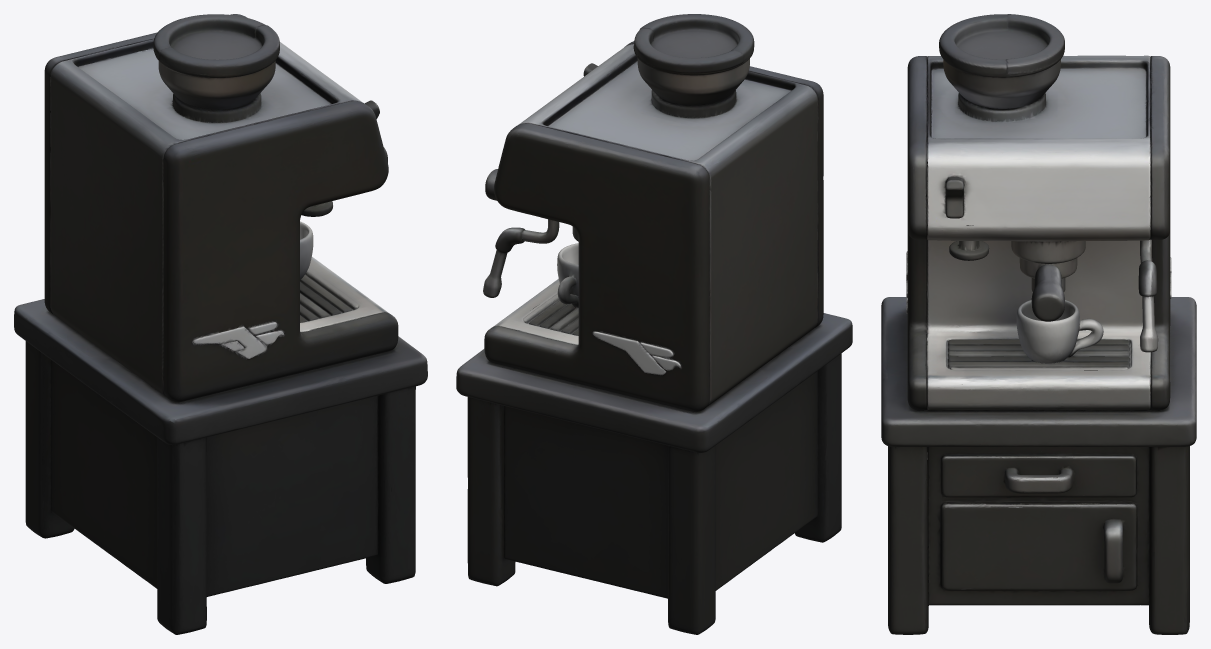
File: coffee-machine-t1.glb
3 views of the same model, side by side, from view 1: azimuth 30°, elevation 25°; view 2: azimuth 150°, elevation 25°; view 3: azimuth 270°, elevation 25° (orthographic). The views are drawn at different scales.
Visible parts, largest first — view 1: tripo_node_49b20901-98d6-4b70-a1c8-b859c02610e8; view 2: tripo_node_49b20901-98d6-4b70-a1c8-b859c02610e8; view 3: tripo_node_49b20901-98d6-4b70-a1c8-b859c02610e8.
Part boxes in pixels (box(x1,y1,x2,y2)): tripo_node_49b20901-98d6-4b70-a1c8-b859c02610e8: box(14, 14, 427, 634); tripo_node_49b20901-98d6-4b70-a1c8-b859c02610e8: box(456, 14, 852, 634); tripo_node_49b20901-98d6-4b70-a1c8-b859c02610e8: box(881, 14, 1196, 634).
Bounding box in the file's own units: 0.5712 × 0.9794 × 0.5297.
1 material, 1 textured.
